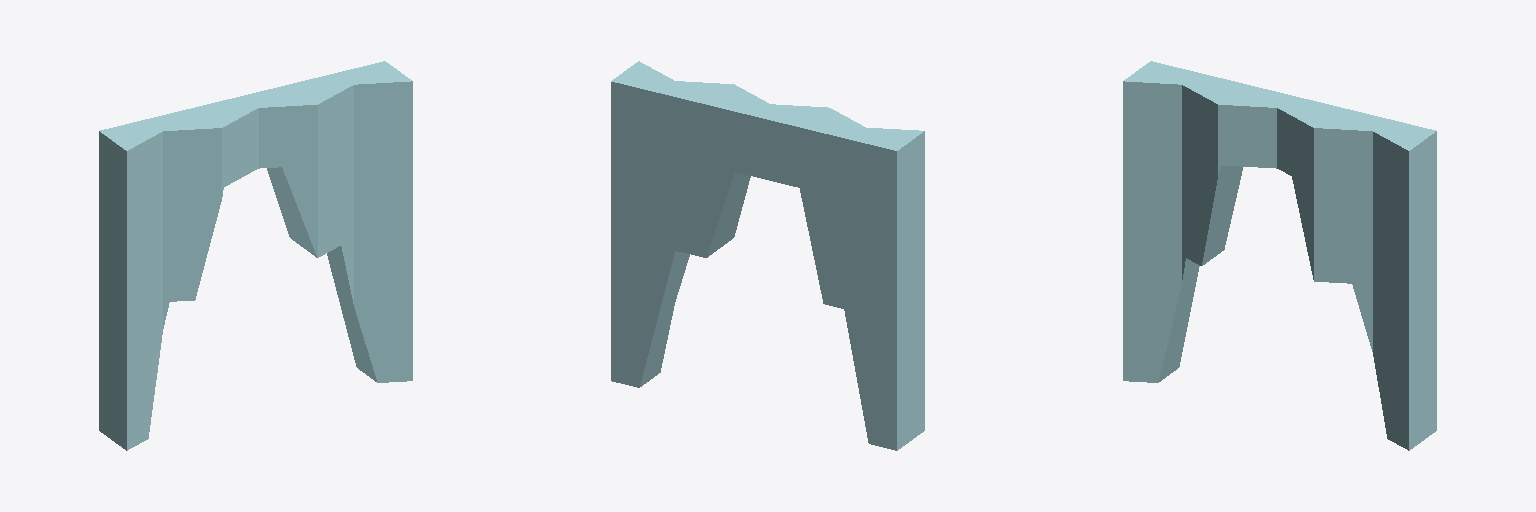
Rendered from cliff_cave_stone.obj.
3 renders of one model, left to right at view 1: azimuth 30°, elevation 25°; view 2: azimuth 150°, elevation 25°; view 3: azimuth 330°, elevation 25°, orthographic.
Visible parts, largest first — view 1: cliff_cave_stone; view 2: cliff_cave_stone; view 3: cliff_cave_stone.
Boxes of the visible parts, <box> form: cliff_cave_stone: <box>99,61,412,450</box>; cliff_cave_stone: <box>611,61,924,450</box>; cliff_cave_stone: <box>1123,61,1436,450</box>.
Size of the model in its own units: 1 by 1 by 0.1685.